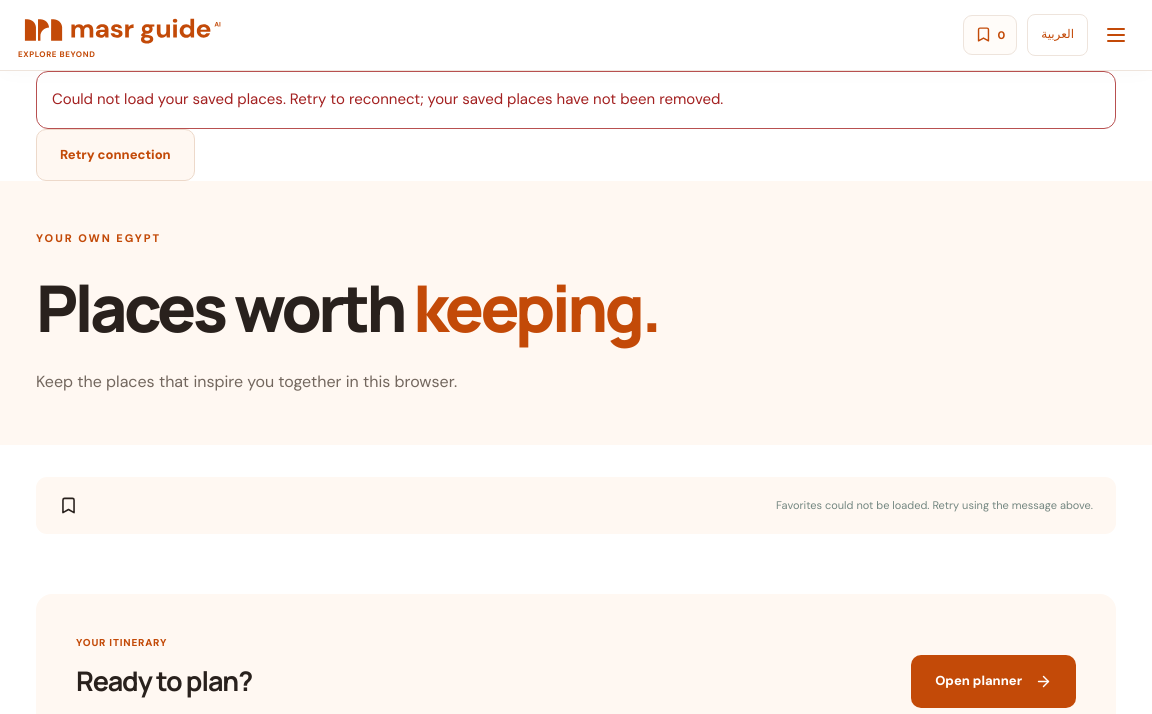
recoverable visitor experience › retries failed account favorites without a false empty or synced state (en)
Expected: the text "Loading favorites..." is shown, [776,496,1093,514]
Expected: the text "Could not load your saved places. Retry to reconnect; your saved places have not been removed." is shown, [52,89,723,109]
Click the button "Retry connection". click: click(115, 155)
box: [36,128,195,181]
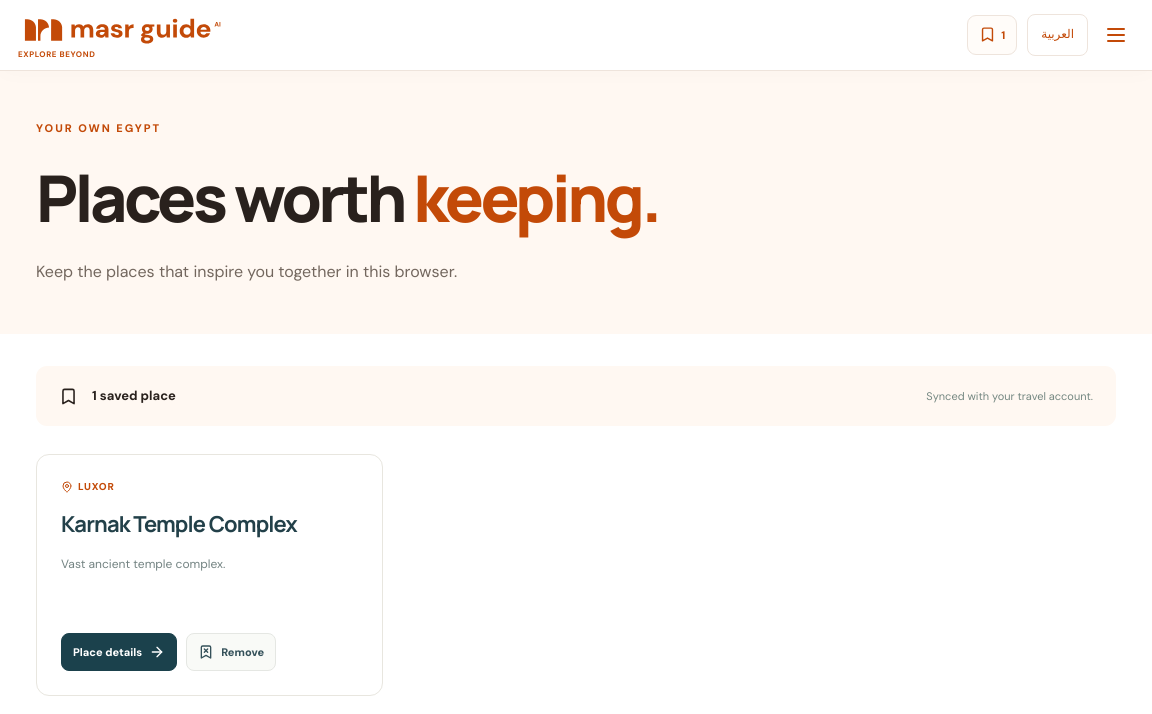
Now the text "Synced with your travel account." is shown, box [926,387,1093,405]
Now the heading "Karnak Temple Complex" is shown, box [61,509,297,539]
Now the text "Could not load your saved places. Retry to reconnect; your saved places have not been removed." is gone
